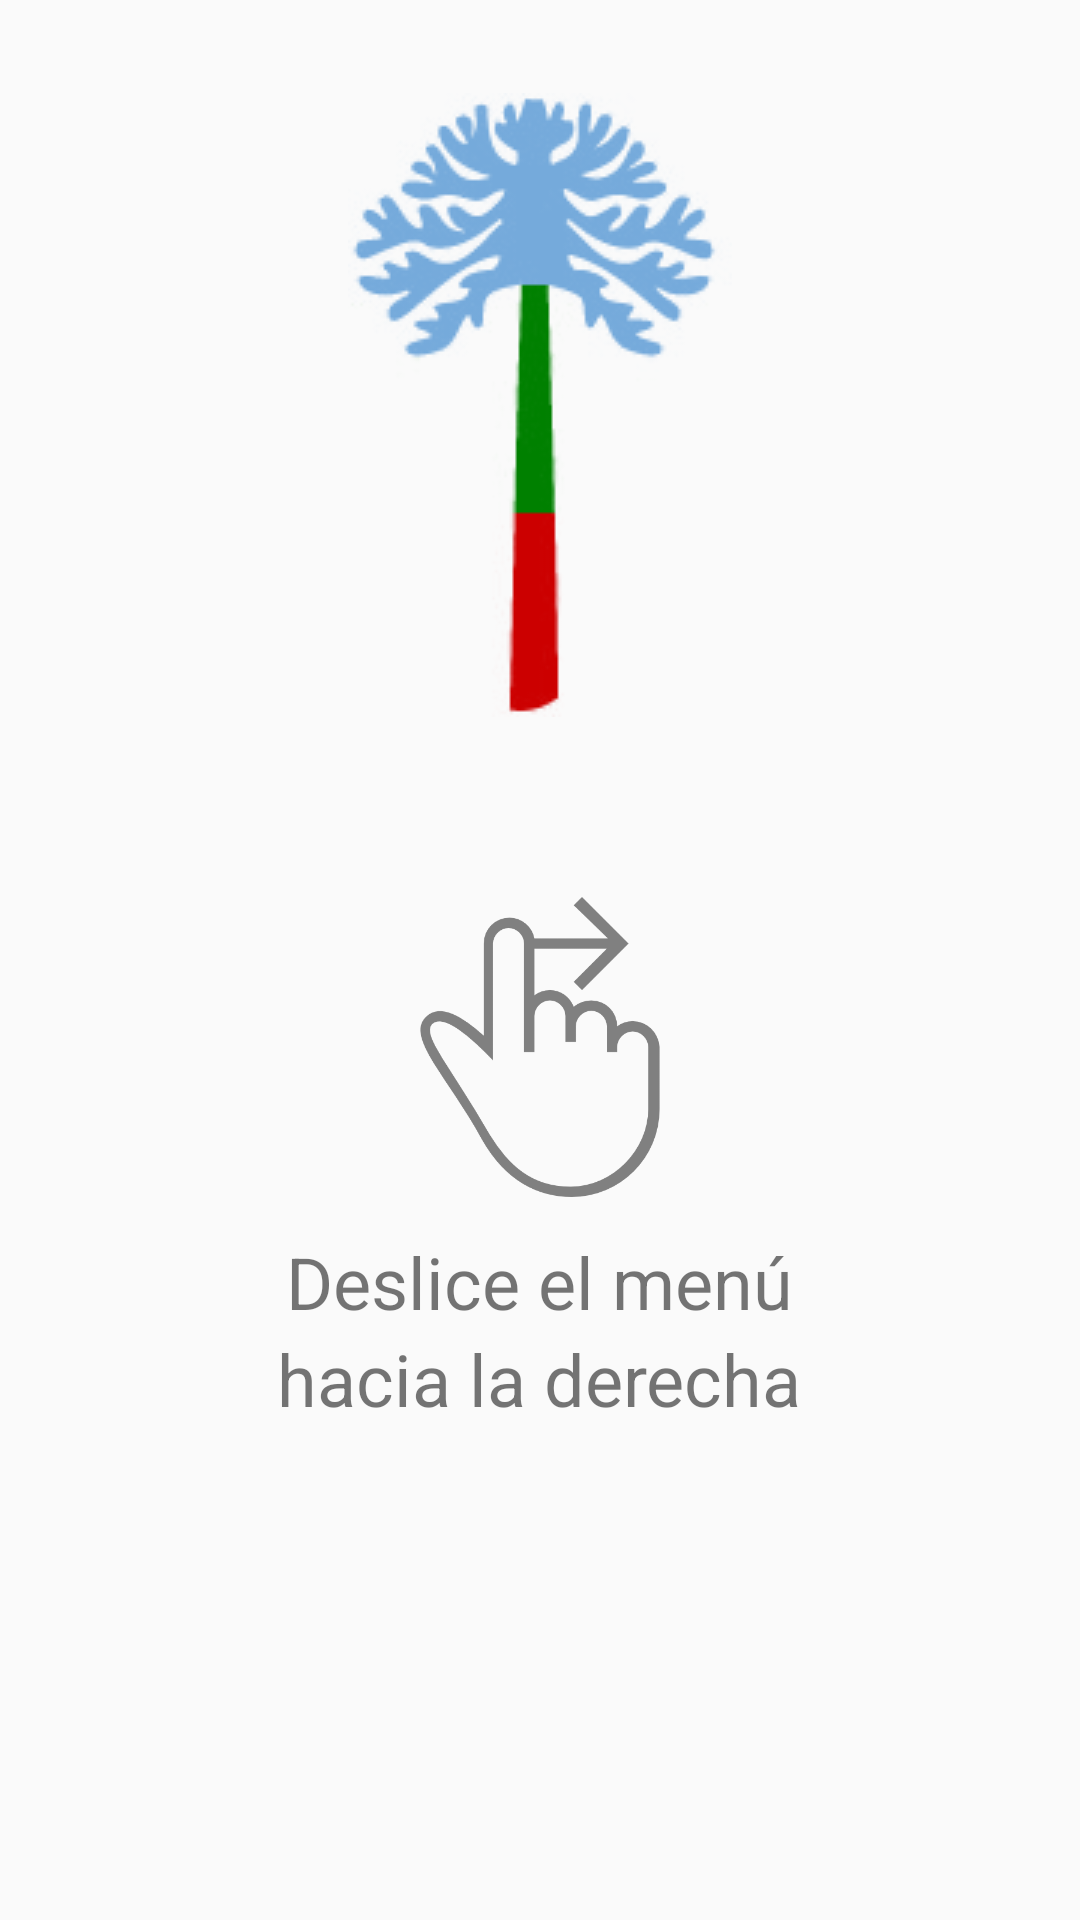

Icons on this 1080×1920 Android screen, each with its box as {"x1": x1, "y1": y1, "x2": x2, "y2": y2}:
finger: {"x1": 420, "y1": 897, "x2": 660, "y2": 1197}
